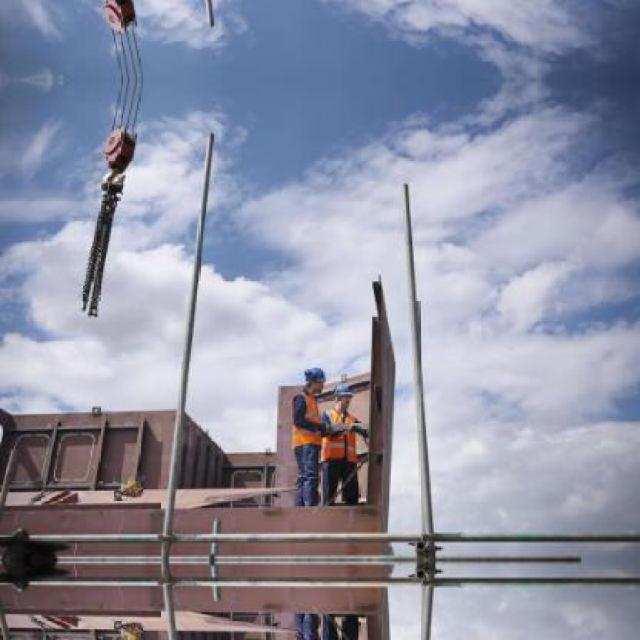helmet: (328, 385, 354, 412), (305, 366, 326, 394)
